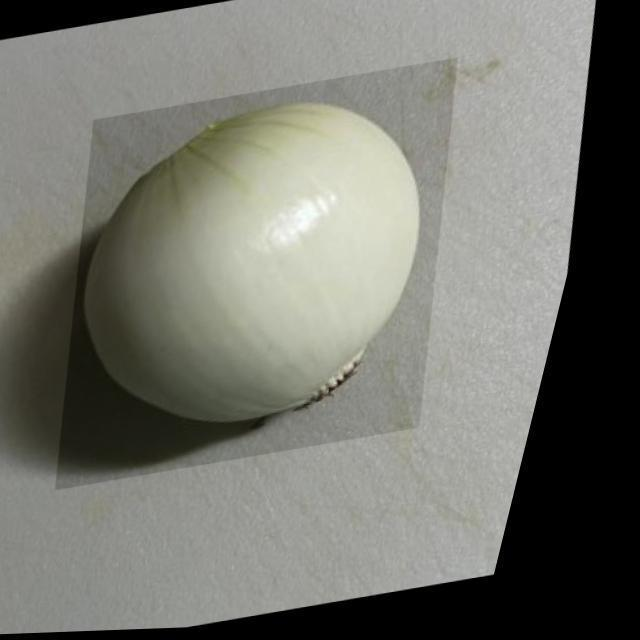Onion: (28, 59, 515, 493)
